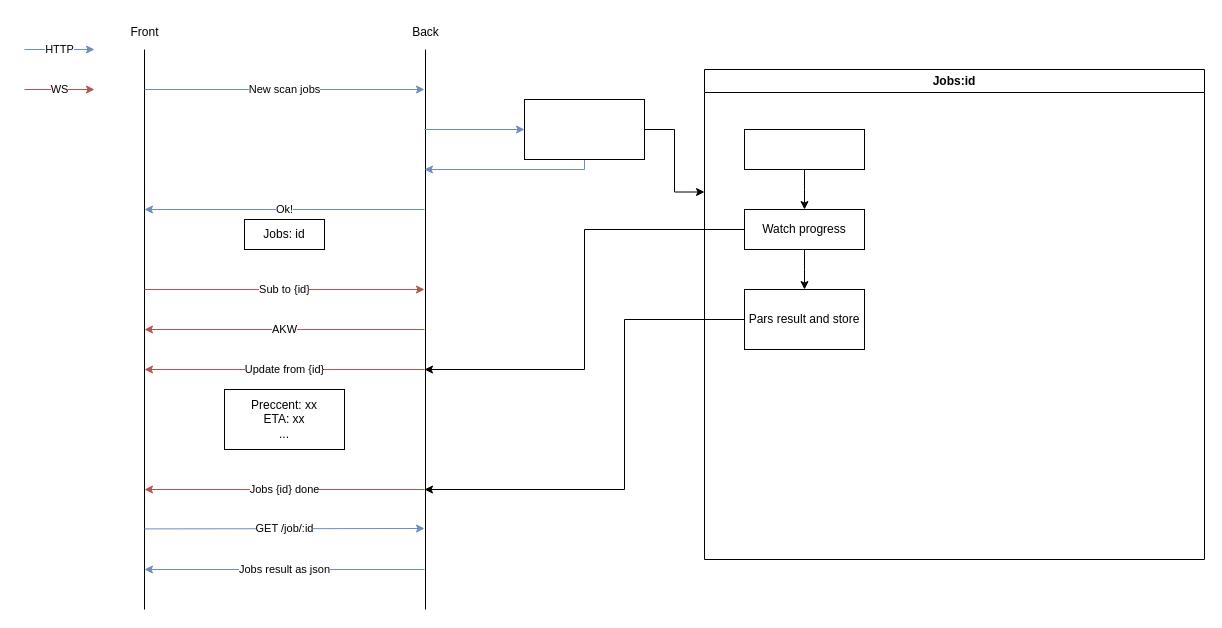
The diagram is 1222 pixels wide and 628 high, and some of its shapes have lost their labels. The shapes that lost their labels are listed below. From the top down, each one's centre as x and y in pixels, then its label:
At point (584, 129): "Run job in background".
At point (804, 149): "Start bin".
